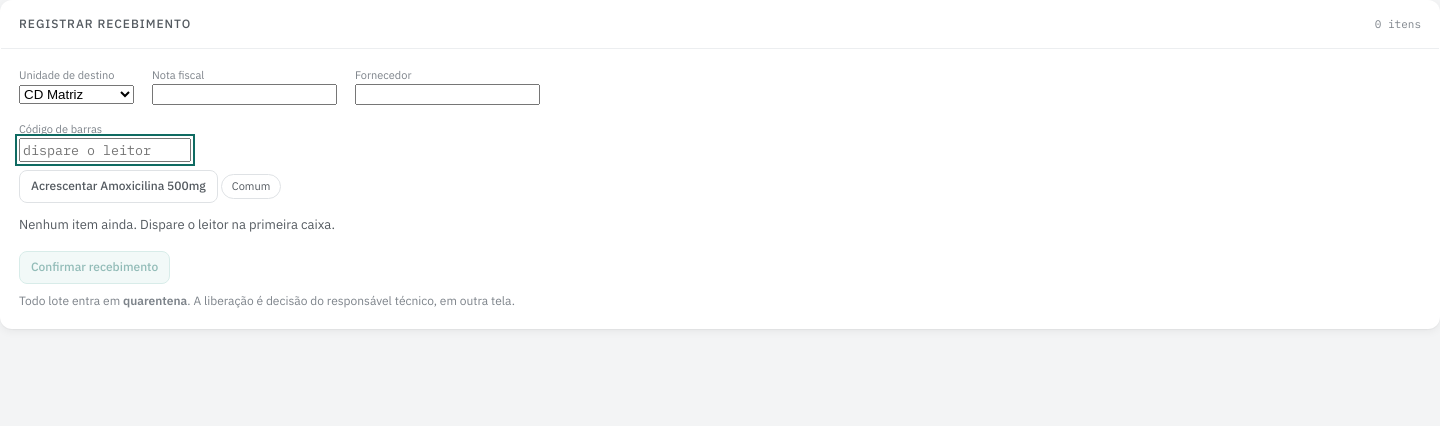
Test: a tela avisa antes de o servidor recusar › divergência entre físico e nota aparece na hora, e não bloqueia
Type "7891234000018" into the field named "Código de barras do produto" at (105, 150), box [19,138,191,162]
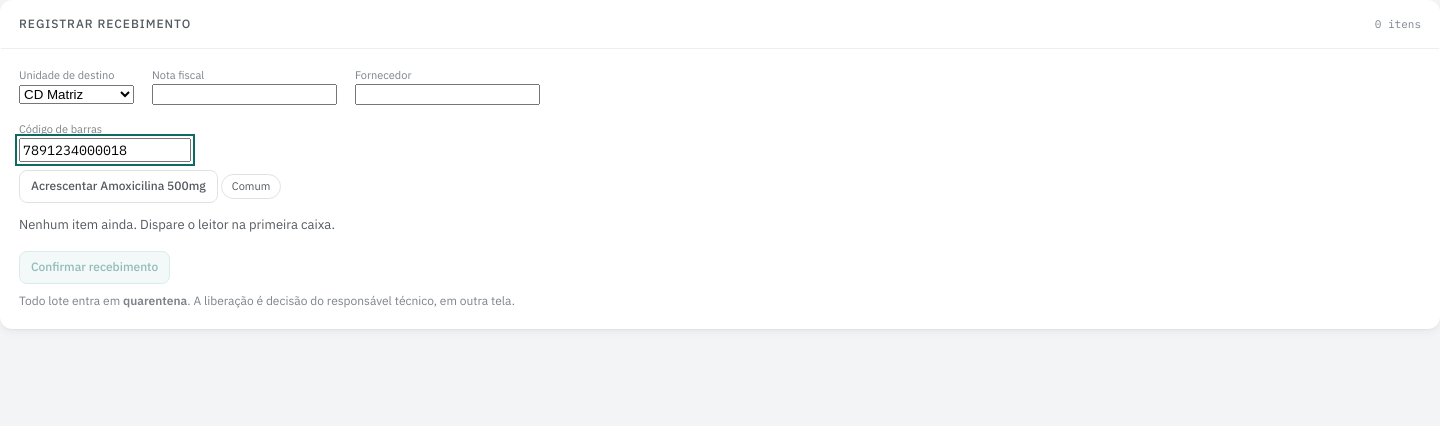
Press Enter in the field named "Código de barras do produto", box [19,138,191,162]
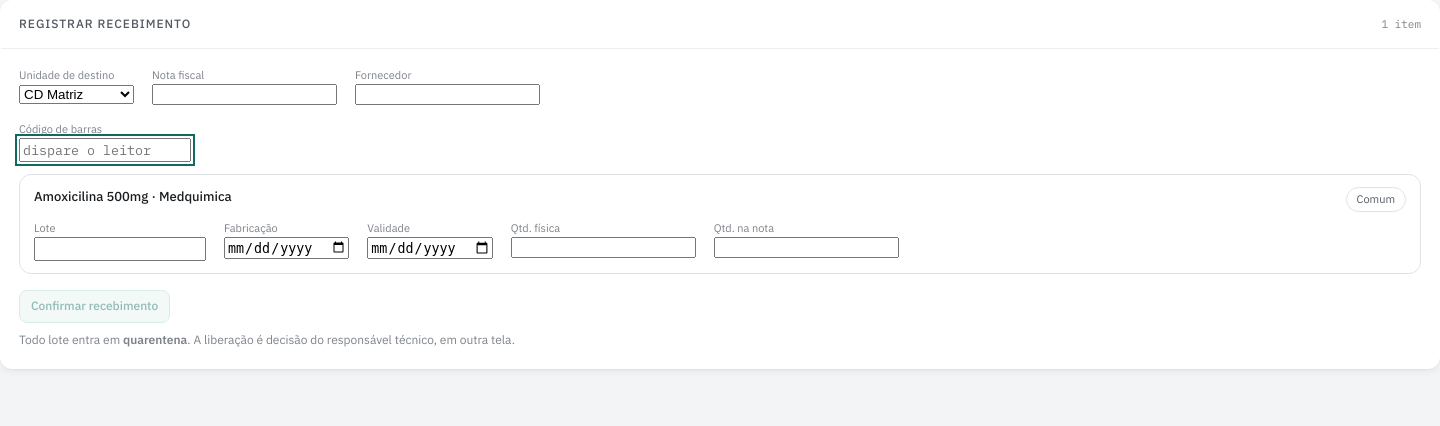
Type "8" into the number field named "Quantidade física" at (603, 248), box [511,238,696,258]
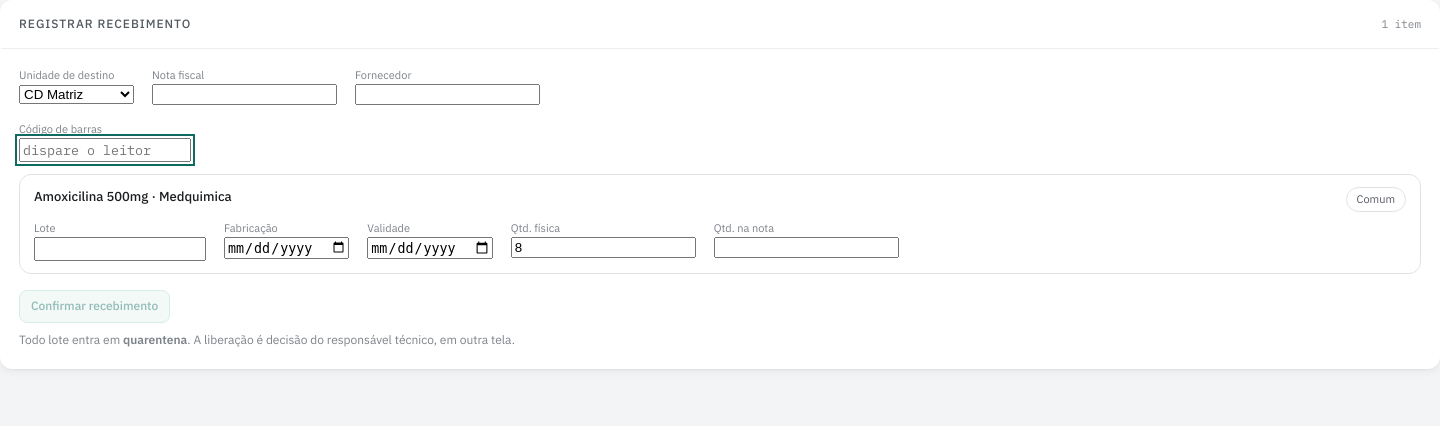
Type "10" into the number field named "Quantidade na nota" at (806, 248), box [714,238,899,258]
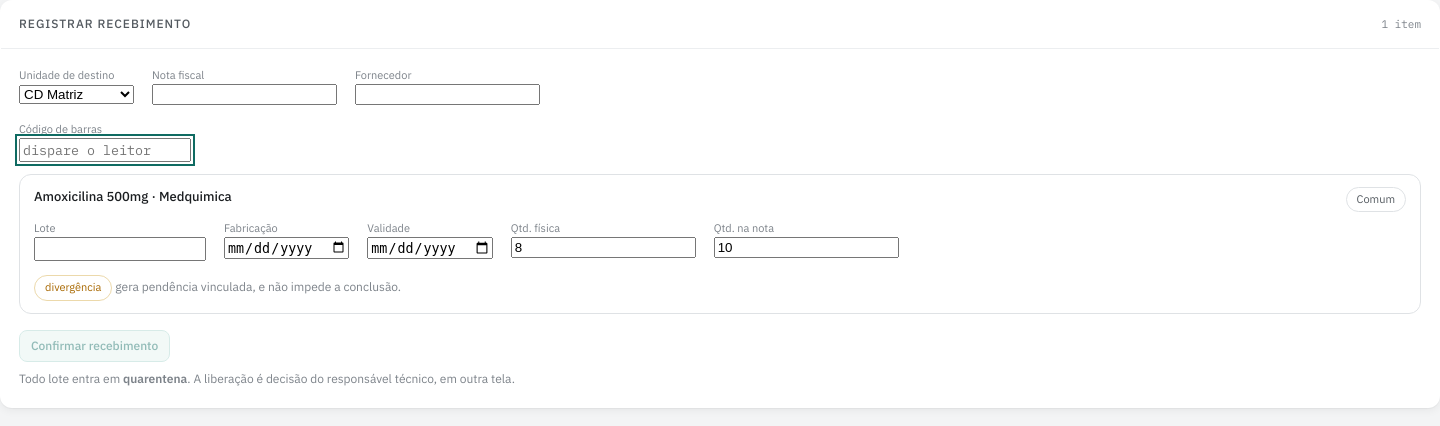
Now the text "divergência" is shown, box [34,276,112,300]
Now the text "gera pendência vinculada, e não impede a conclusão." is shown, box [115,280,401,294]
